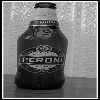beer: (14, 1, 70, 93)
